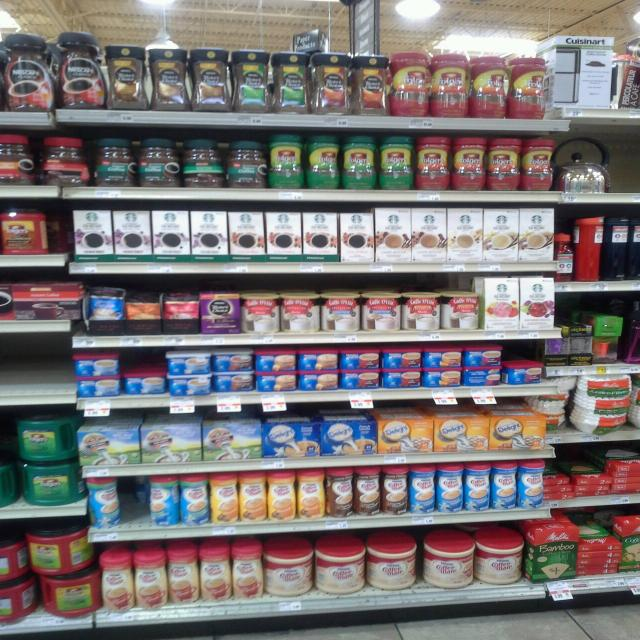void: (0, 337, 71, 408), (121, 477, 149, 551)
